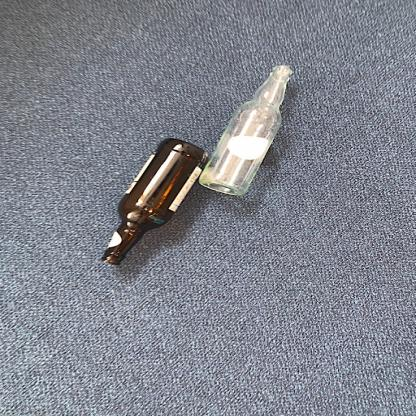trash: (92, 136, 211, 271), (201, 62, 295, 201)
